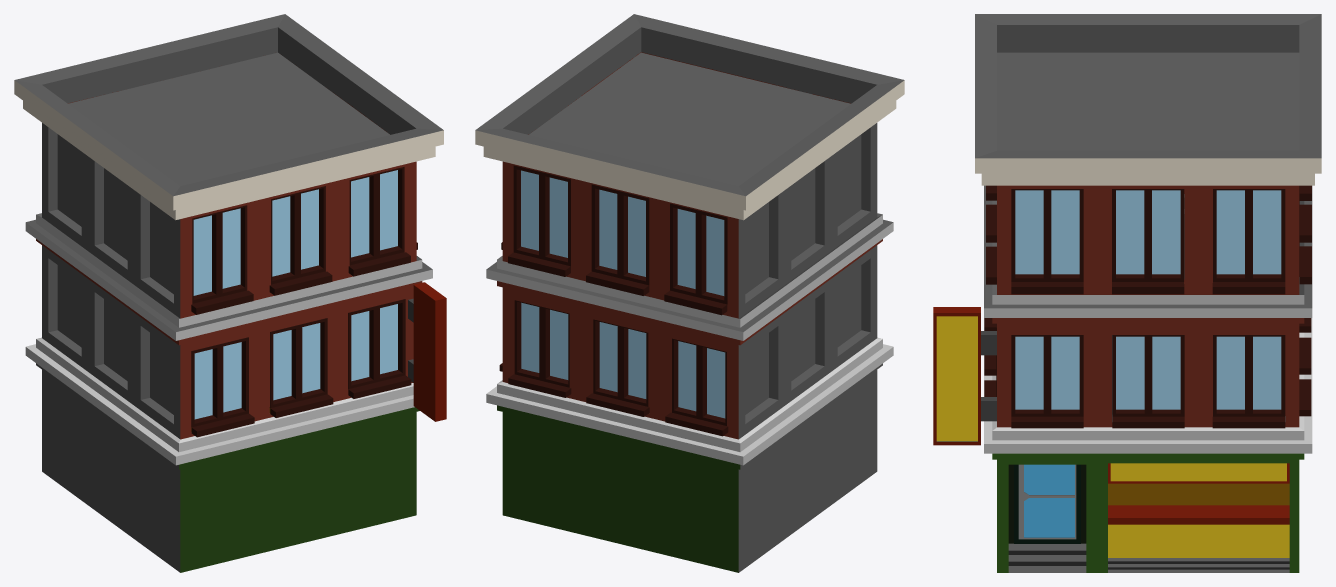
The model's file is Pichi-Pichi_Store.fbx.
3 renders of one model, left to right at view 1: azimuth 30°, elevation 25°; view 2: azimuth 150°, elevation 25°; view 3: azimuth 270°, elevation 25°, orthographic. The views are drawn at different scales.
Visible parts, largest first — view 1: Pichi-Pichi Store_Body, Pichi-Pichi Store_Window.012, Pichi-Pichi Store_Window.013, Pichi-Pichi Store_Window.014, Pichi-Pichi Store_Window.011, Pichi-Pichi Store_Window.009, Pichi-Pichi Store_Window.010, SideBillbooard; view 2: Pichi-Pichi Store_Body, Pichi-Pichi Store_Window.016, Pichi-Pichi Store_Window.017, Pichi-Pichi Store_Window.015, Pichi-Pichi Store_Window.007, Pichi-Pichi Store_Window.006, Pichi-Pichi Store_Window.008; view 3: Pichi-Pichi Store_Body, Pichi-Pichi Store_Window.002, Pichi-Pichi Store_Window, Pichi-Pichi Store_Window.001, SideBillbooard, Pichi-Pichi Store_Window.005, Pichi-Pichi Store_Window.003, Pichi-Pichi Store_Window.004, Pichi-Pichi Store_Door, Pichi-Pichi Store_Window.015, Pichi-Pichi Store_Window.016, Pichi-Pichi Store_Window.006 (+1 smaller).
Boxes of the visible parts, x1,y1,x2,y2 form: Pichi-Pichi Store_Body: (14,14,443,572); Pichi-Pichi Store_Window.012: (348,167,410,276); Pichi-Pichi Store_Window.013: (269,186,332,295); Pichi-Pichi Store_Window.014: (191,205,253,314); Pichi-Pichi Store_Window.011: (191,337,254,437); Pichi-Pichi Store_Window.009: (348,299,411,398); Pichi-Pichi Store_Window.010: (269,318,333,417); SideBillbooard: (408,282,446,421); Pichi-Pichi Store_Body: (475,14,904,572); Pichi-Pichi Store_Window.016: (586,184,649,295); Pichi-Pichi Store_Window.017: (664,203,727,315); Pichi-Pichi Store_Window.015: (508,165,570,276); Pichi-Pichi Store_Window.007: (586,319,649,416); Pichi-Pichi Store_Window.006: (508,300,571,397); Pichi-Pichi Store_Window.008: (665,338,728,436); Pichi-Pichi Store_Body: (975,14,1321,572); Pichi-Pichi Store_Window.002: (1212,189,1285,294); Pichi-Pichi Store_Window: (1011,189,1083,294); Pichi-Pichi Store_Window.001: (1112,189,1184,294); SideBillbooard: (933,307,996,445); Pichi-Pichi Store_Window.005: (1212,335,1285,428); Pichi-Pichi Store_Window.003: (1011,335,1083,428); Pichi-Pichi Store_Window.004: (1112,335,1184,428); Pichi-Pichi Store_Door: (1014,464,1080,543); Pichi-Pichi Store_Window.015: (1299,186,1311,284); Pichi-Pichi Store_Window.016: (1299,204,1311,242); Pichi-Pichi Store_Window.006: (1299,379,1311,416).
Size of the model in its own units: 1432 by 1962 by 1629.
Materials: 4 (4 with a texture image).
